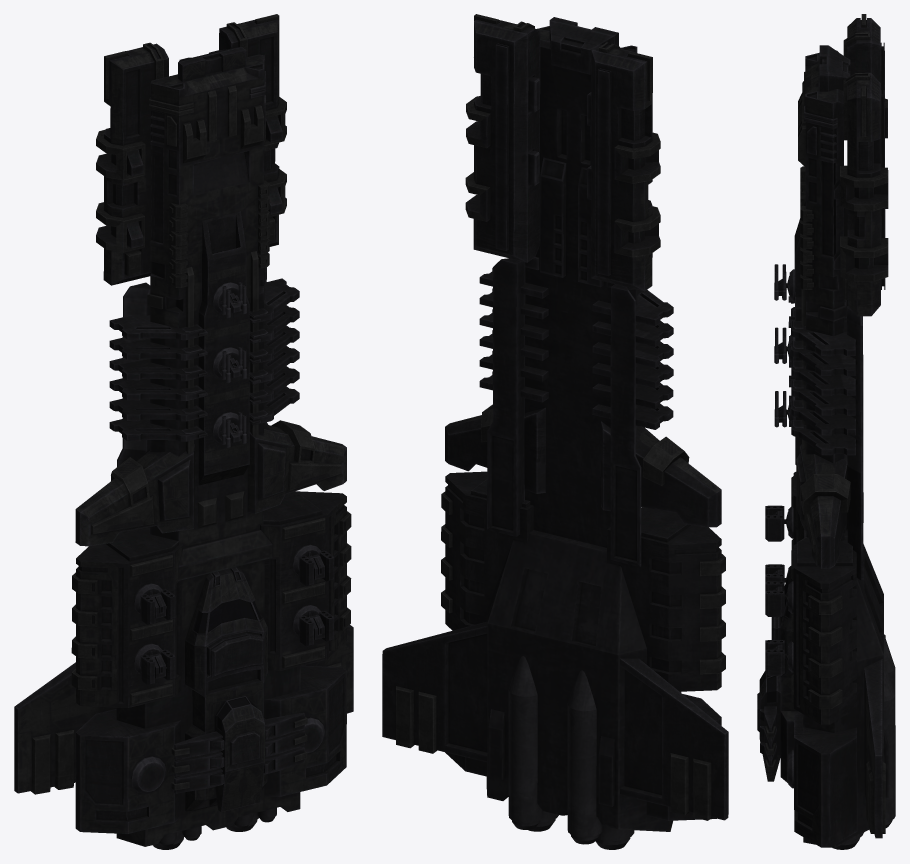
File: spaceship_gray_04.fbx
The picture shows the model from 3 angles, left to right: view 1: azimuth 30°, elevation 25°; view 2: azimuth 150°, elevation 25°; view 3: azimuth 270°, elevation 25°; orthographic projection. The views are drawn at different scales.
Visible parts, largest first — view 1: pCube166; view 2: pCube166; view 3: pCube166.
Boxes of the visible parts, x1=… form: pCube166: x1=14, y1=14, x2=353, y2=849; pCube166: x1=382, y1=14, x2=728, y2=849; pCube166: x1=757, y1=14, x2=895, y2=849.
Size of the model in its own units: 243 by 548 by 88.98.
